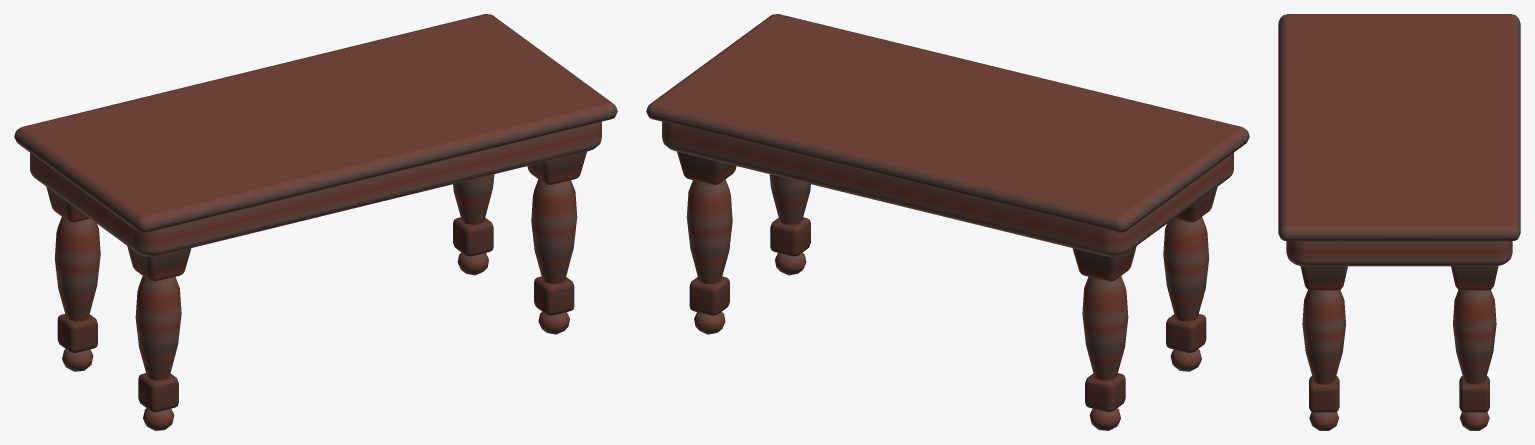
The model's file is kitchen-table-09.glb.
3 renders of one model, left to right at view 1: azimuth 30°, elevation 25°; view 2: azimuth 150°, elevation 25°; view 3: azimuth 270°, elevation 25°, orthographic. The views are drawn at different scales.
Parts seen in each view (by area): view 1: Kitchen_Table_09; view 2: Kitchen_Table_09; view 3: Kitchen_Table_09.
Part boxes in pixels (bbox=[...]): Kitchen_Table_09: bbox=[14, 14, 617, 430]; Kitchen_Table_09: bbox=[646, 14, 1249, 430]; Kitchen_Table_09: bbox=[1278, 14, 1520, 430].
Bounding box in the file's own units: 1.6 × 0.7527 × 0.75.
Materials: 1 (1 with a texture image).
